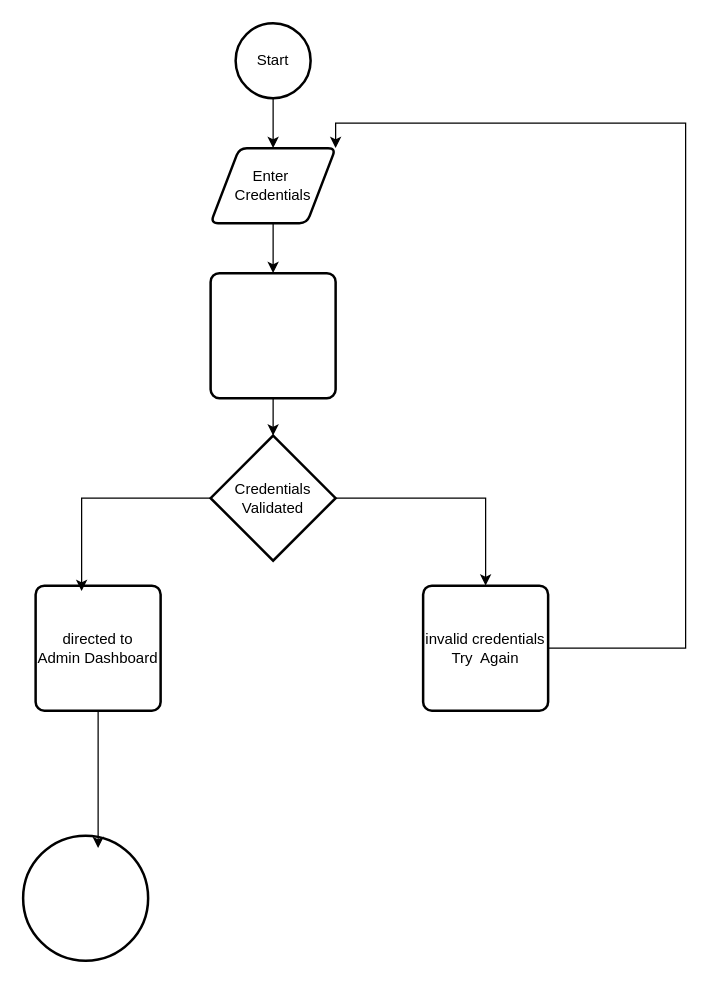
This 718x983 diagram has some shape labels left out. The shapes that lost their labels are listed below. From the top down, each one's box as (x1, y1, x2, y2) in pixels, then its label:
(209, 271, 336, 399): Validating Admin Credentials
(21, 834, 149, 961): Finish
